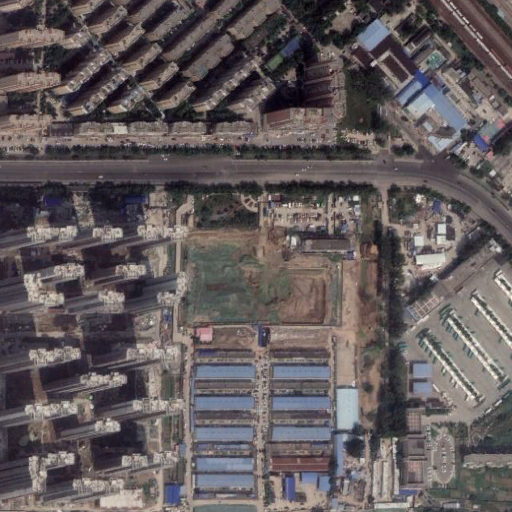cw: (181, 229, 341, 323)
